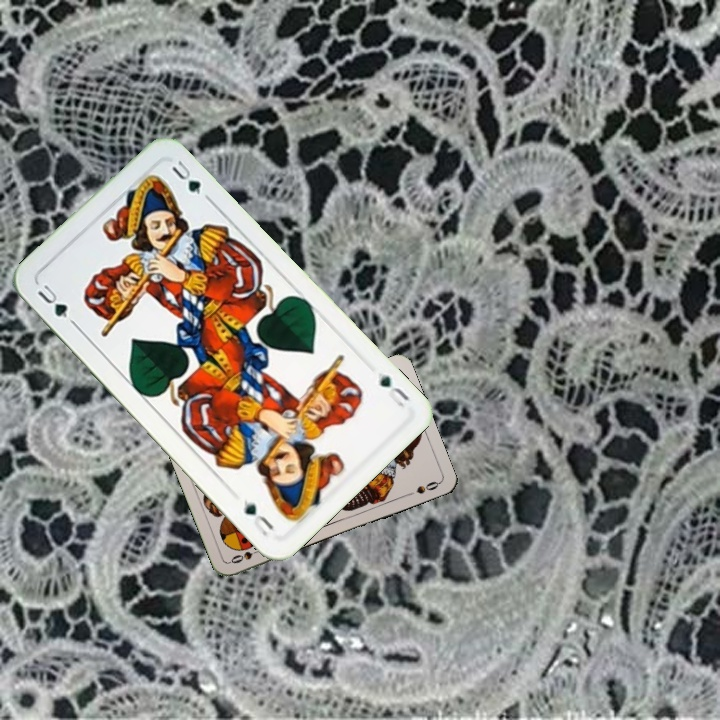GU: (33, 280, 78, 328), (373, 368, 412, 411)
SO: (226, 545, 265, 566)
